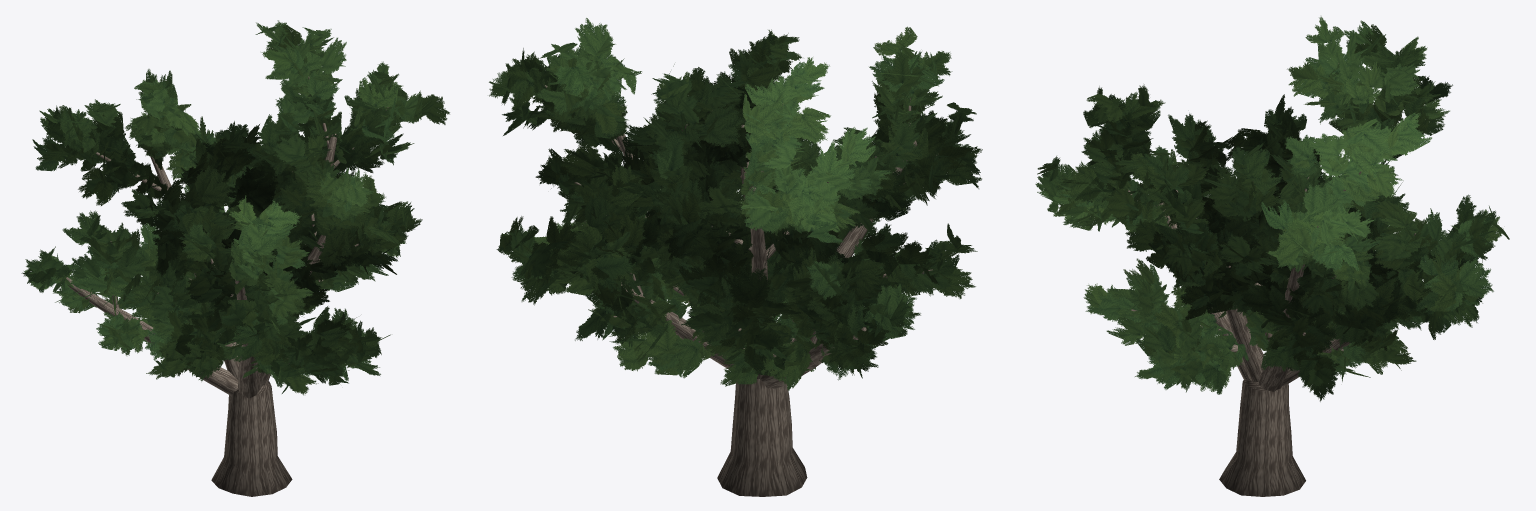
File: macrocarpa.glb
The picture shows the model from 3 angles, left to right: view 1: azimuth 30°, elevation 25°; view 2: azimuth 150°, elevation 25°; view 3: azimuth 270°, elevation 25°; orthographic projection. The views are drawn at different scales.
Parts seen in each view (by area): view 1: macrocarpa; view 2: macrocarpa; view 3: macrocarpa.
Part boxes in pixels (left/top/right/bottom): macrocarpa: left=21, top=20, right=449, bottom=496; macrocarpa: left=489, top=18, right=982, bottom=496; macrocarpa: left=1035, top=16, right=1509, bottom=496.
Size of the model in its own units: 15.73 by 15.77 by 16.6.
Materials: 2 (2 with a texture image).
